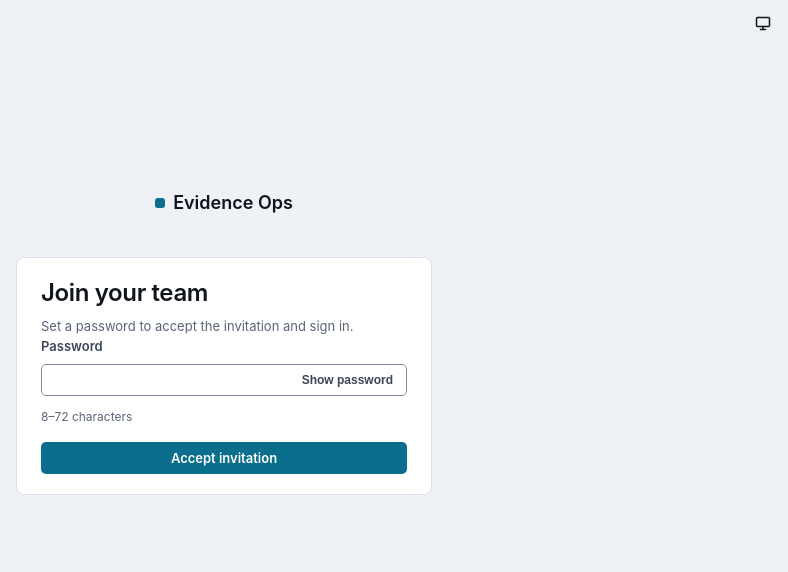
InvitePage › points a retried redemption at sign-in when the token was already spent, keyed on a 400 that arrives only on a retry
Type "correct-horse-battery" into the password field labelled "Password" at (224, 380), box [41,364,407,396]
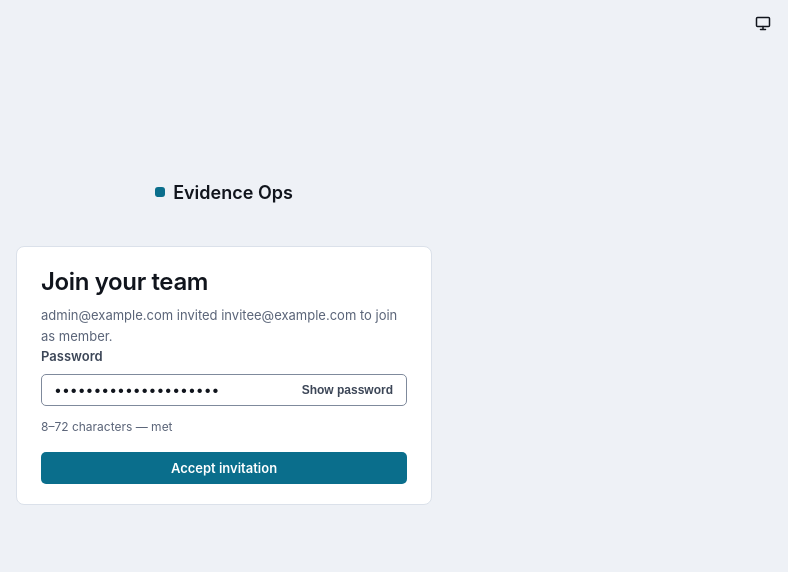
Click the button "Accept invitation" at (224, 468), box [41,452,407,484]
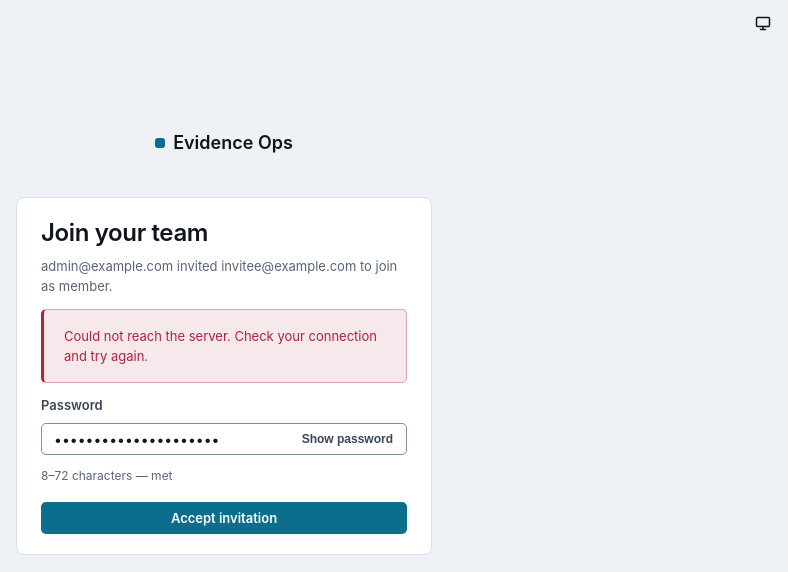
Now the message reads "Could not reach the server. Check your connection and try again.", box [64,328,377,364]
Click the button "Accept invitation" at (224, 518), box [41,502,407,534]
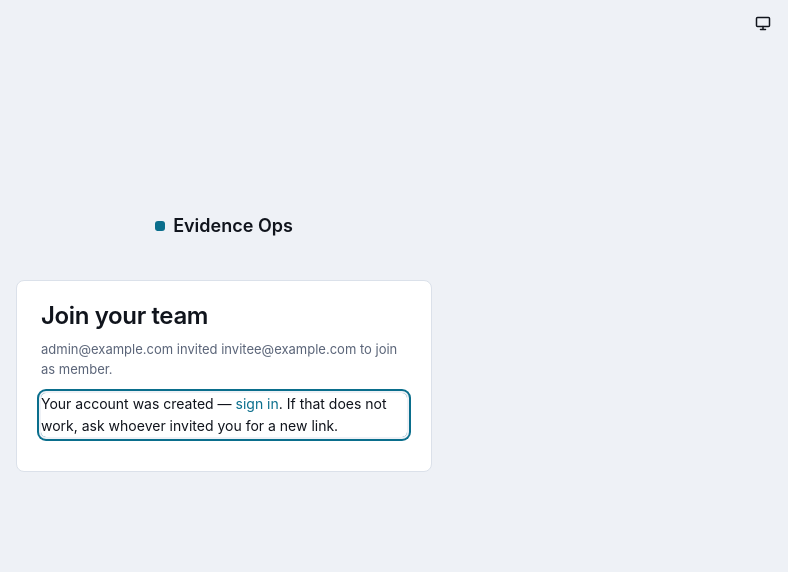
Now the label labelled "Password" is gone
Now the message "Could not reach the server. Check your connection and try again." is gone
